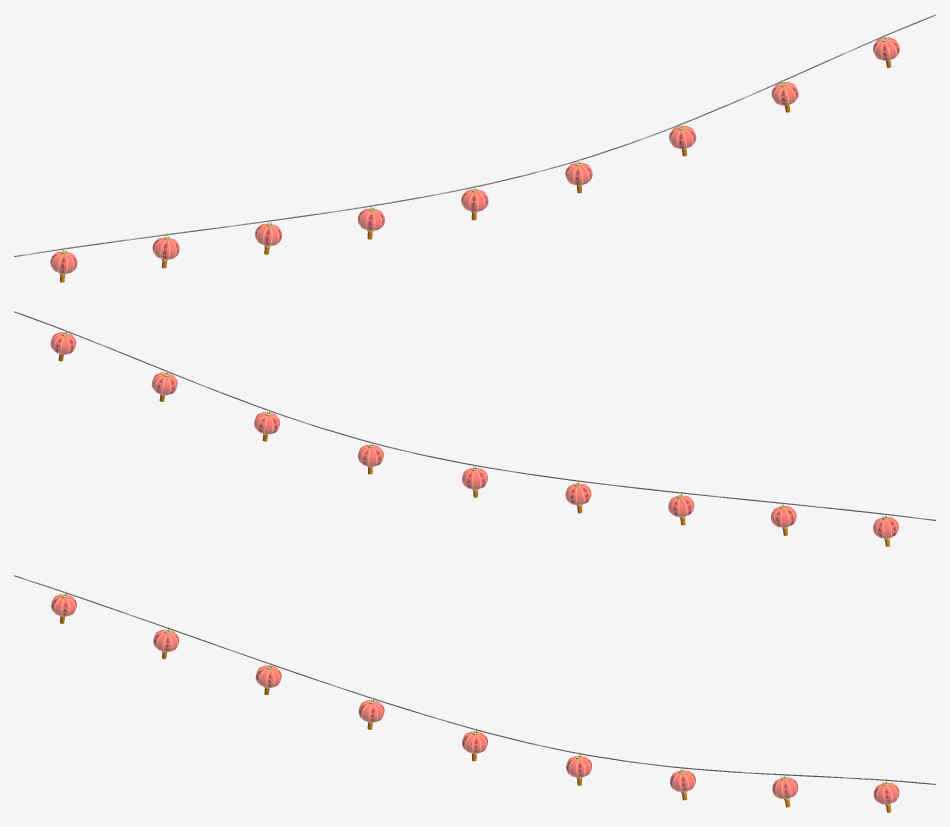
File: SM_lamp_spline_Splines_31.fbx
The picture shows the model from 3 angles, top to bottom: view 1: azimuth 30°, elevation 25°; view 2: azimuth 150°, elevation 25°; view 3: azimuth 330°, elevation 25°; orthographic projection. The views are drawn at different scales.
Parts seen in each view (by area): view 1: SM_lamp_spline_Splines_31; view 2: SM_lamp_spline_Splines_31; view 3: SM_lamp_spline_Splines_31.
Boxes of the visible parts, x1,y1,x2,y2 form: SM_lamp_spline_Splines_31: [14, 14, 935, 282]; SM_lamp_spline_Splines_31: [14, 311, 935, 546]; SM_lamp_spline_Splines_31: [14, 575, 935, 812].
Size of the model in its own units: 2234 by 117 by 193.
